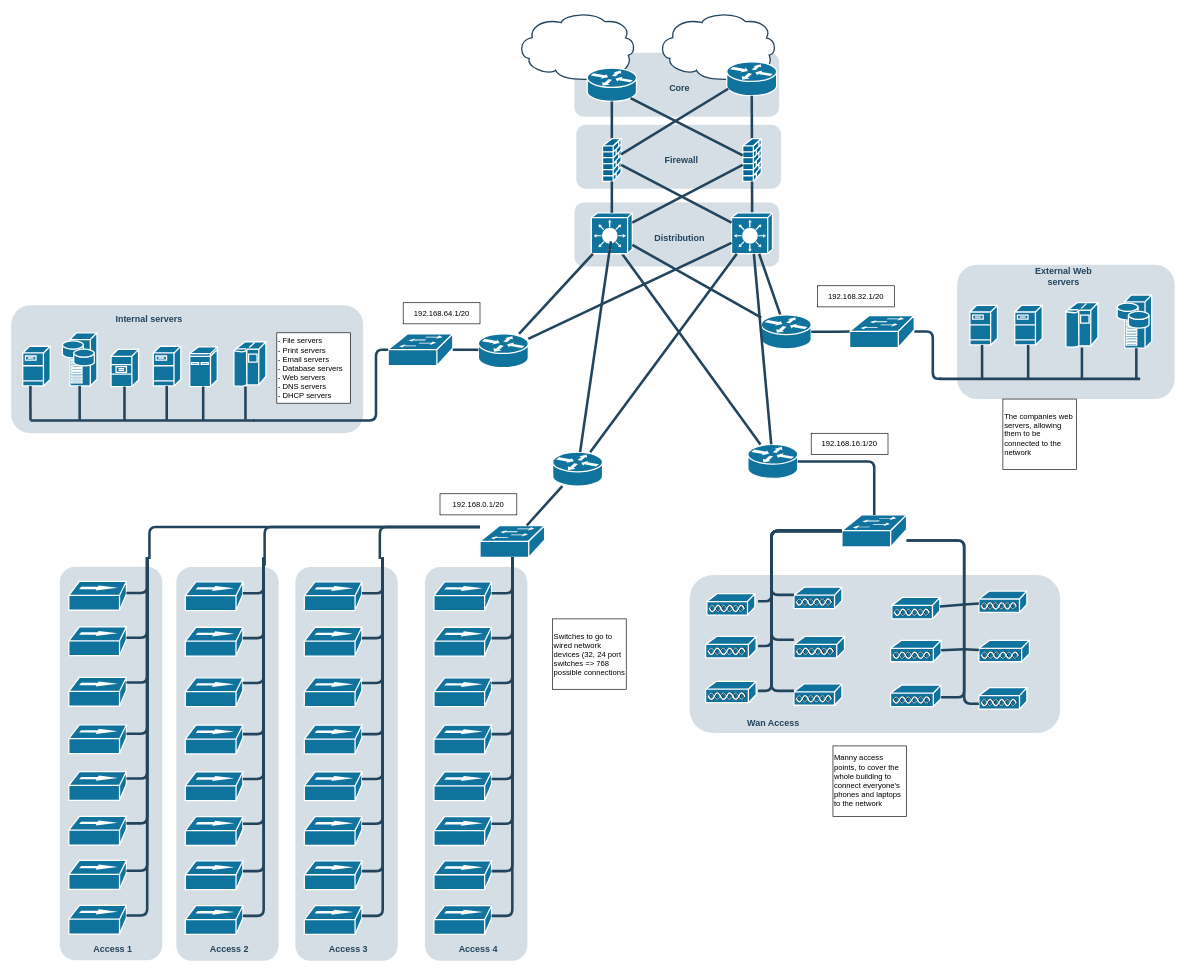
Some shapes in this 1185 by 972 pixel diagram are drawn without their labels. The shapes that lost their labels are listed below. From the top down, each one's box as (x1, y1, x2, y2) in pixels, then its label:
(516, 11, 636, 80): Back-up Internet
(657, 11, 777, 80): Internet
